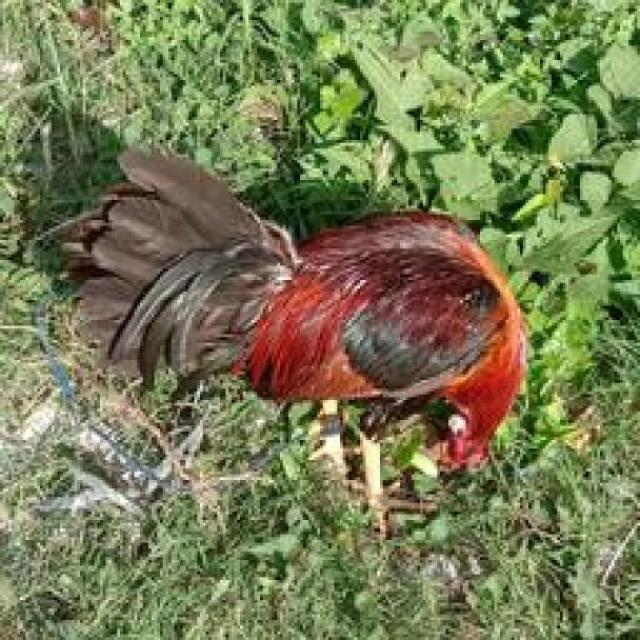Chicken: (42, 123, 552, 552)
